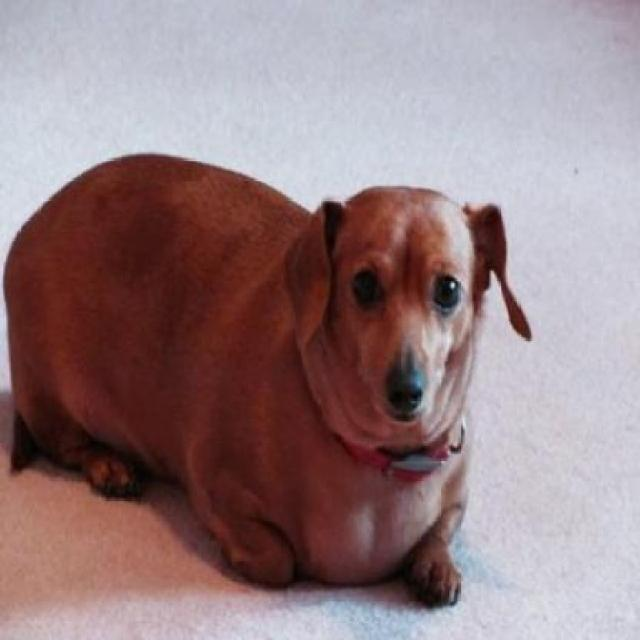Dog: (1, 151, 534, 609)
